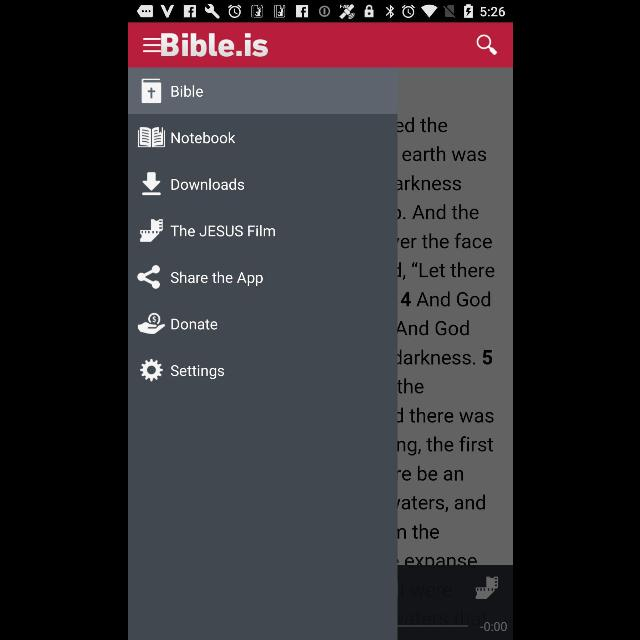icon: (137, 313, 165, 335), (136, 265, 160, 289), (140, 78, 162, 104), (137, 128, 165, 148), (140, 358, 162, 382), (476, 34, 496, 56), (142, 172, 160, 195), (142, 38, 160, 52)
image: (140, 220, 162, 242)
panel: (127, 68, 397, 640)
text: (160, 33, 268, 57), (170, 272, 262, 286), (170, 225, 274, 237), (170, 178, 244, 190), (170, 364, 224, 380), (170, 132, 234, 144), (170, 318, 218, 330), (170, 85, 202, 97)
toolbar: (128, 23, 512, 67)
uppertaskbar: (128, 1, 512, 23)
